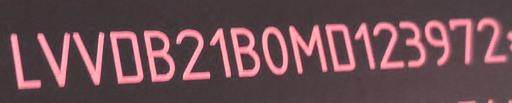letter: (284, 22, 330, 75), (106, 29, 146, 84), (36, 31, 72, 92), (71, 29, 107, 88), (8, 31, 44, 90), (174, 27, 212, 82), (140, 28, 176, 85), (228, 23, 262, 78), (476, 13, 508, 68), (322, 22, 356, 73), (371, 20, 405, 69), (397, 19, 427, 70), (260, 24, 290, 75), (206, 26, 234, 79), (421, 19, 451, 68), (351, 20, 377, 71), (448, 16, 472, 69)
